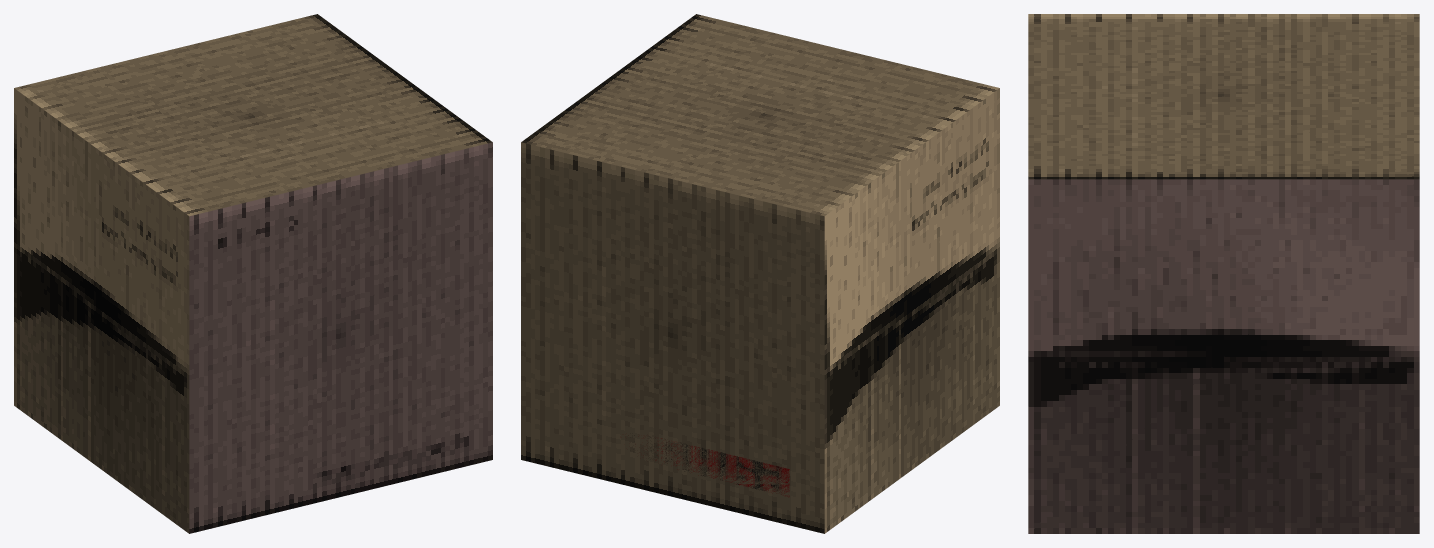
Rendered from primary_066.glb.
3 views of the same model, side by side, from view 1: azimuth 30°, elevation 25°; view 2: azimuth 150°, elevation 25°; view 3: azimuth 270°, elevation 25° (orthographic). The views are drawn at different scales.
Visible parts, largest first — view 1: Object; view 2: Object; view 3: Object.
Part boxes in pixels (x1,y1,x2,y2): Object: [14, 14, 492, 533]; Object: [521, 14, 999, 533]; Object: [1028, 14, 1419, 533].
Size of the model in its own units: 1.14 by 1.14 by 1.14.
6 materials, 6 textured.
